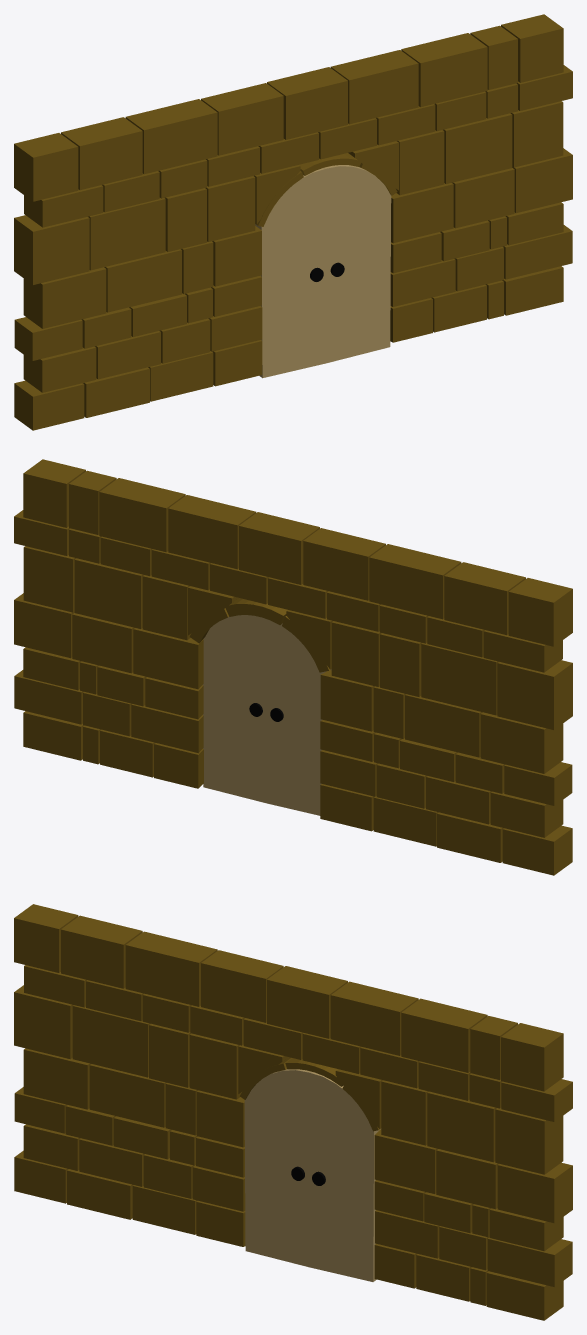
File: Doors.fbx
3 views of the same model, one above another, from view 1: azimuth 30°, elevation 25°; view 2: azimuth 150°, elevation 25°; view 3: azimuth 330°, elevation 25° (orthographic).
Visible parts, largest first — view 1: Wall, Circle; view 2: Wall, Circle; view 3: Wall, Circle.
Boxes of the visible parts, x1,y1,x2,y2 form: Wall: (14, 14, 572, 430); Circle: (255, 165, 391, 378); Wall: (14, 459, 572, 875); Circle: (203, 615, 331, 815); Wall: (14, 904, 572, 1320); Circle: (244, 1069, 380, 1281).
Size of the model in its own units: 3349 by 1649 by 214.
